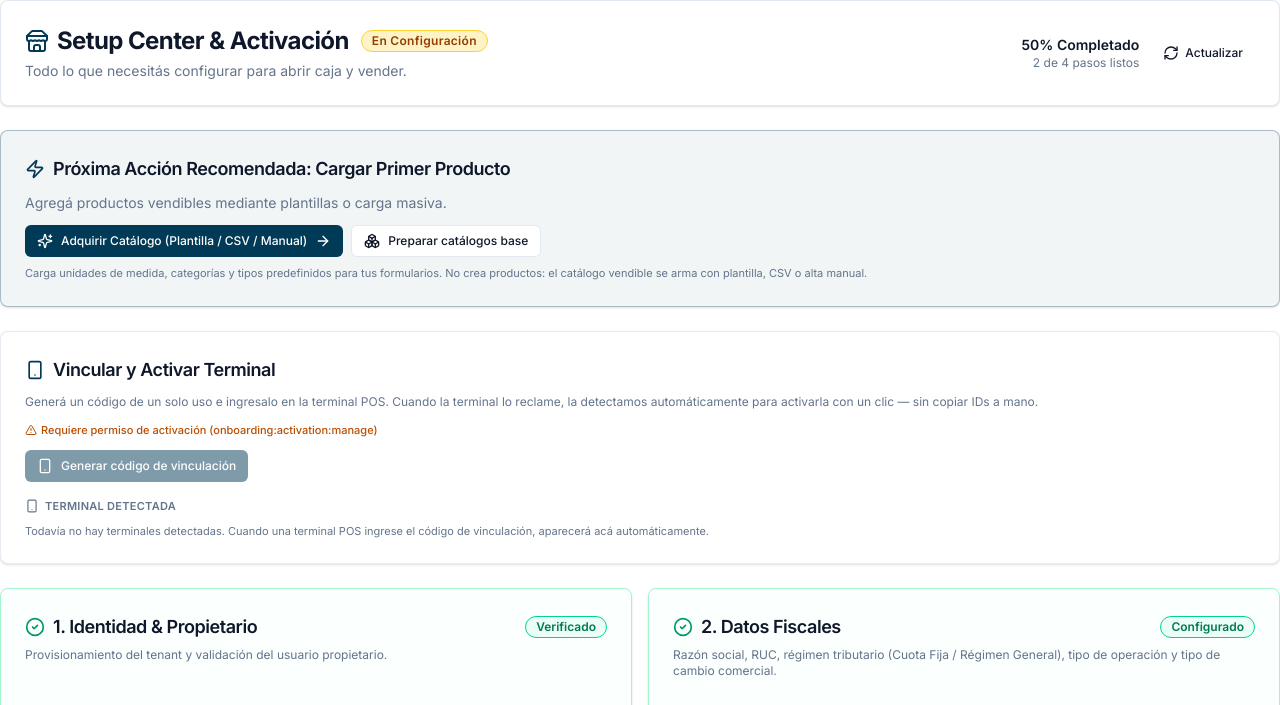
Test case: ONB1.5 — Fiscal + Catalog Acquisition UX & SALE_READY Transition › Setup Center allows acquiring catalog via Manual Minimal Product and transitions to SALE_READY (AC-06, AC-07, AC-08, AC-27, AC-28)
The image size is (1280, 705).
Expected: the element with test id "next-recommended-action" is shown, left=0, top=130, right=1279, bottom=306
# Open Catalog Acquisition Modal
Click the button with test id "open-catalog-acquisition-btn" at [184, 241], box left=25, top=225, right=343, bottom=257
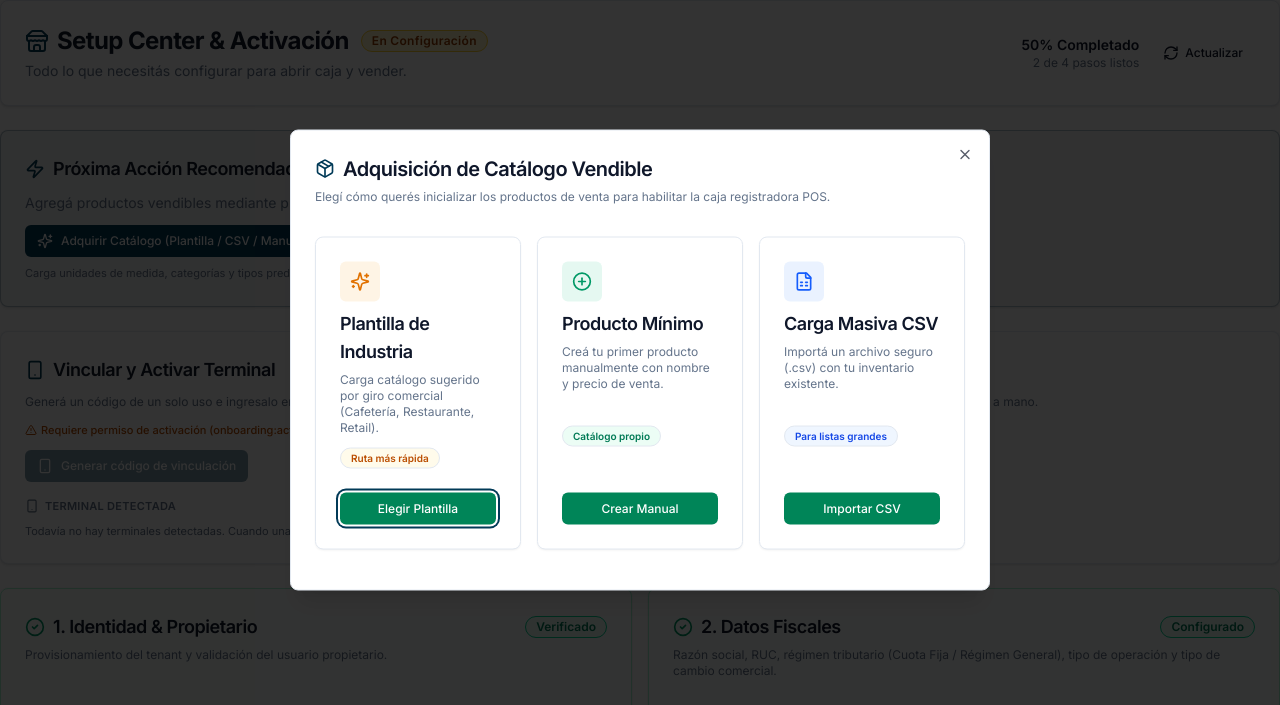
Now the dialog with test id "catalog-acquisition-modal" is shown, box left=290, top=130, right=990, bottom=590
Now the element with test id "acquisition-choices" is shown, box left=315, top=220, right=965, bottom=566
# Choose Manual Product
Click the element with test id "choose-manual-btn" at [640, 393], box left=537, top=236, right=743, bottom=550
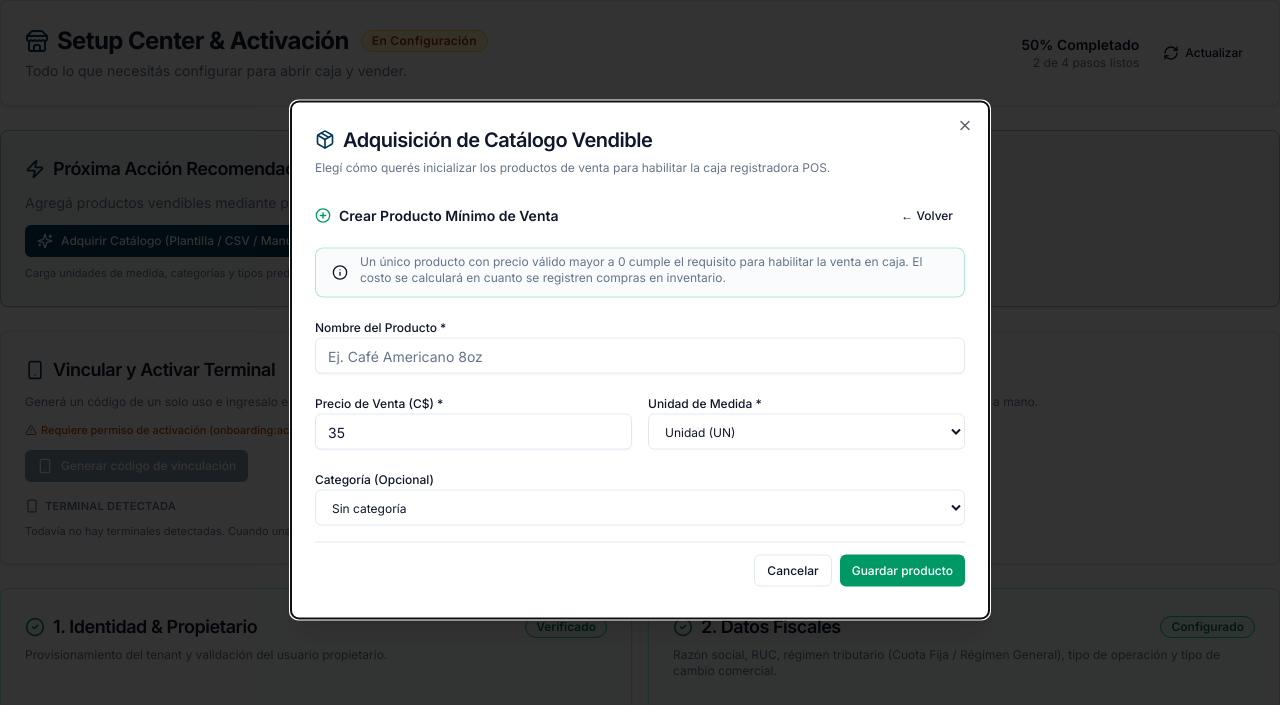
Now the element with test id "manual-product-view" is shown, box left=315, top=192, right=965, bottom=594
Type "Café Americano 8oz" into the field with test id "manual-product-name-input" at [640, 356], box left=315, top=338, right=965, bottom=374
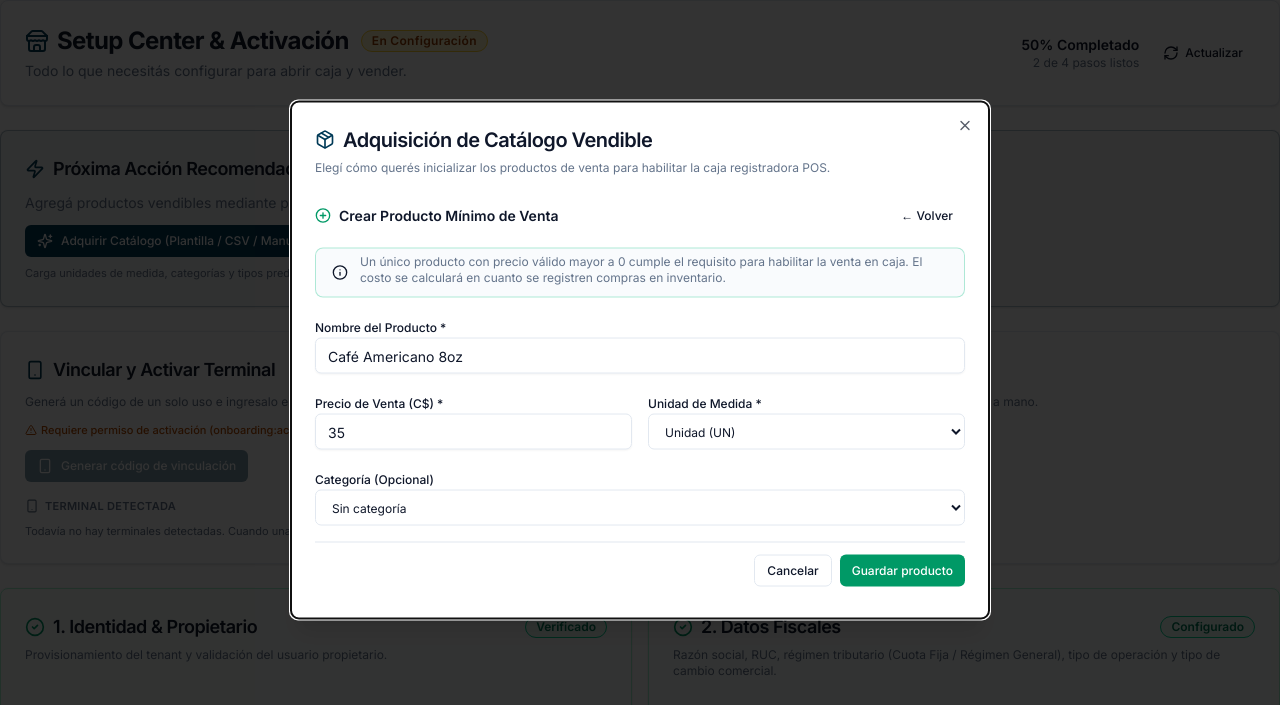
Replace the text in the number field with test id "manual-product-price-input" with "45" at [474, 432], box left=315, top=414, right=632, bottom=450
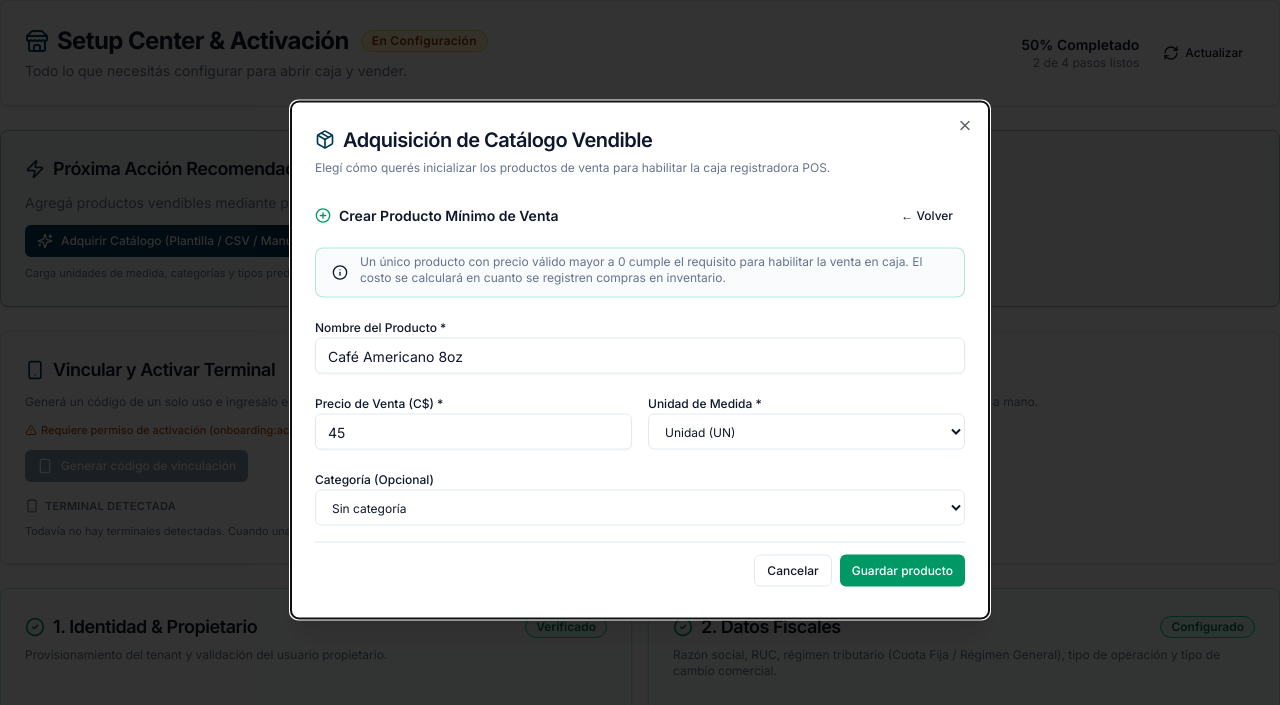
# Submit Manual Product
Submit the form with test id "manual-product-form", box left=315, top=314, right=965, bottom=586
(page scrolled)
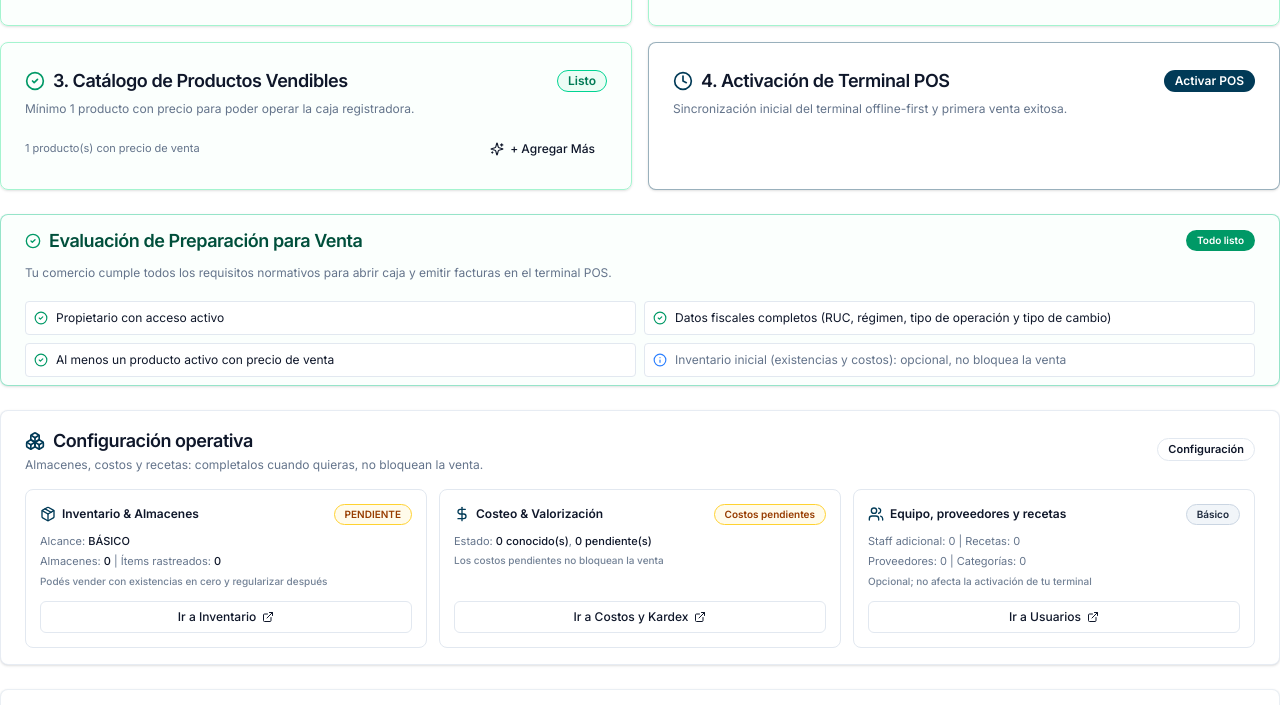
Now the element with test id "sale-ready-review-card" is shown, box left=0, top=214, right=1279, bottom=386
Now the text "Al menos un producto activo con precio de venta" is shown, box left=56, top=352, right=334, bottom=368
Now the text "Inventario inicial (existencias y costos): opcional, no bloquea la venta" is shown, box left=675, top=352, right=1066, bottom=368
